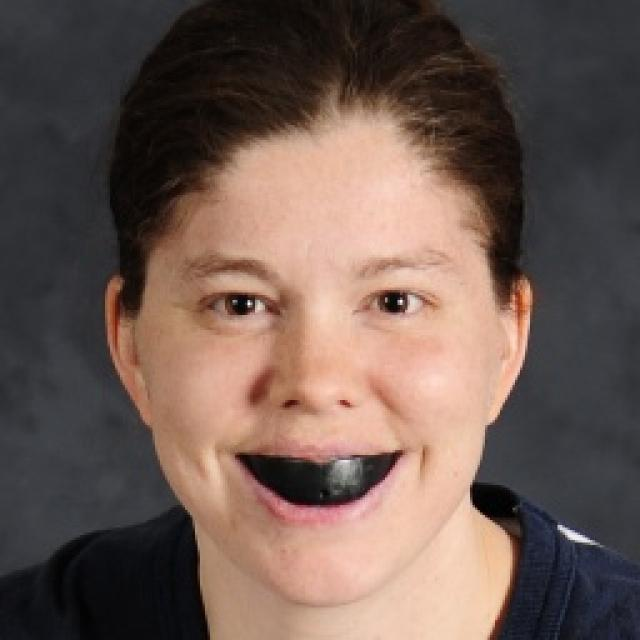no-glasses: (194, 264, 446, 341)
